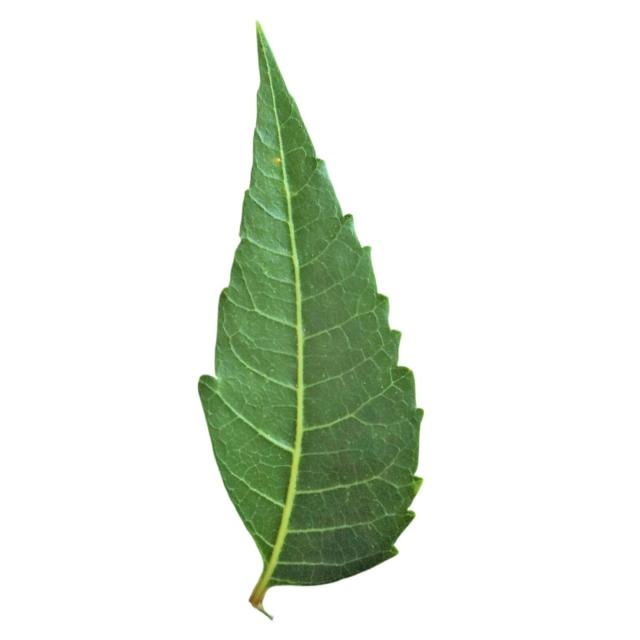Medicinal-Neem: (195, 19, 424, 605)
